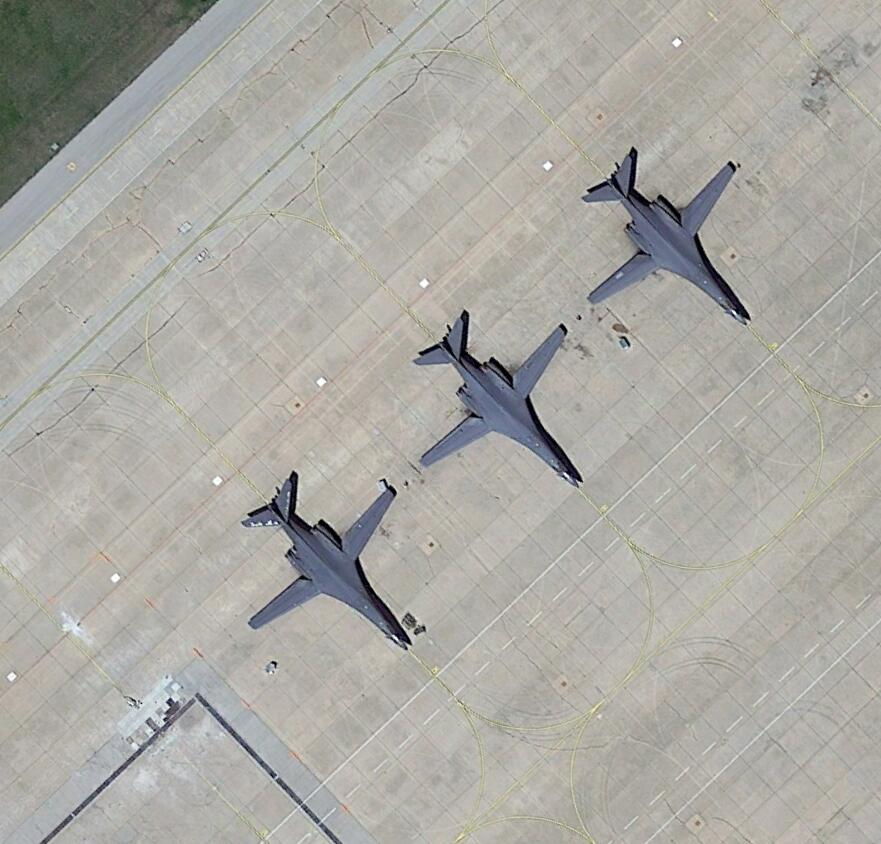A10: (573, 140, 755, 329), (236, 469, 414, 653), (413, 306, 590, 490)
